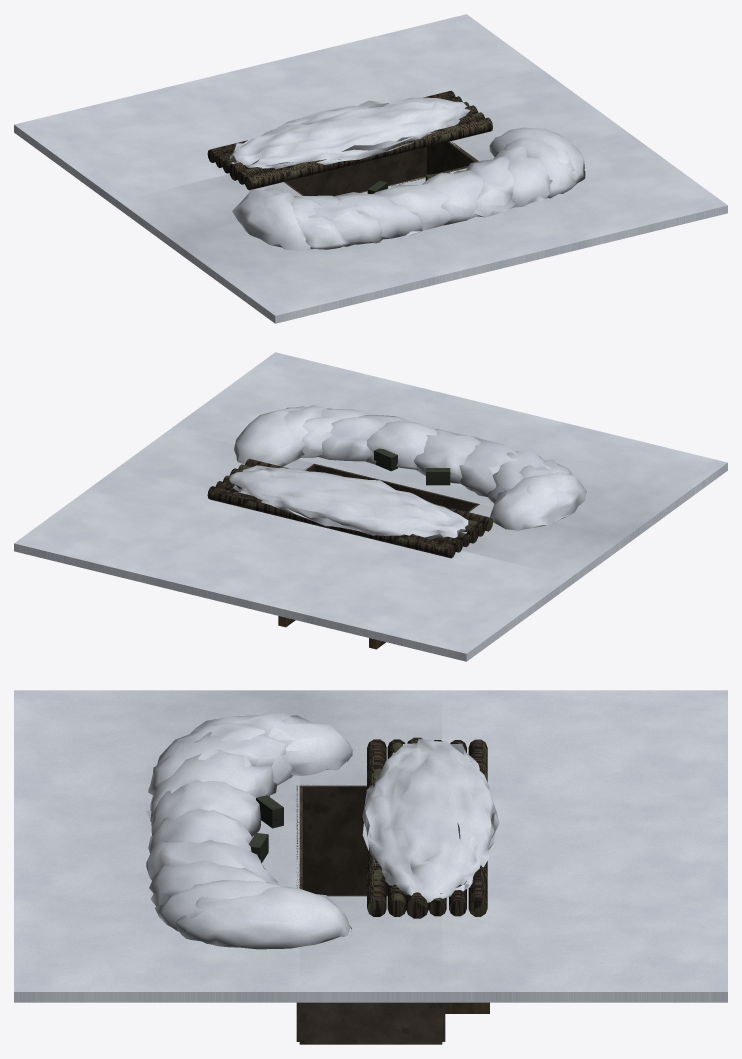
File: foxhole.glb
3 renders of one model, top to bottom at view 1: azimuth 30°, elevation 25°; view 2: azimuth 150°, elevation 25°; view 3: azimuth 270°, elevation 25°, orthographic. The views are drawn at different scales.
Parts seen in each view (by area): view 1: Foxhole; view 2: Foxhole; view 3: Foxhole.
Part boxes in pixels (left/top/right/bottom): Foxhole: left=14, top=14, right=727, bottom=323; Foxhole: left=14, top=352, right=727, bottom=661; Foxhole: left=14, top=690, right=727, bottom=1044.
Bounding box in the file's own units: 6 × 1.77 × 6.
Materials: 8 (7 with a texture image).
